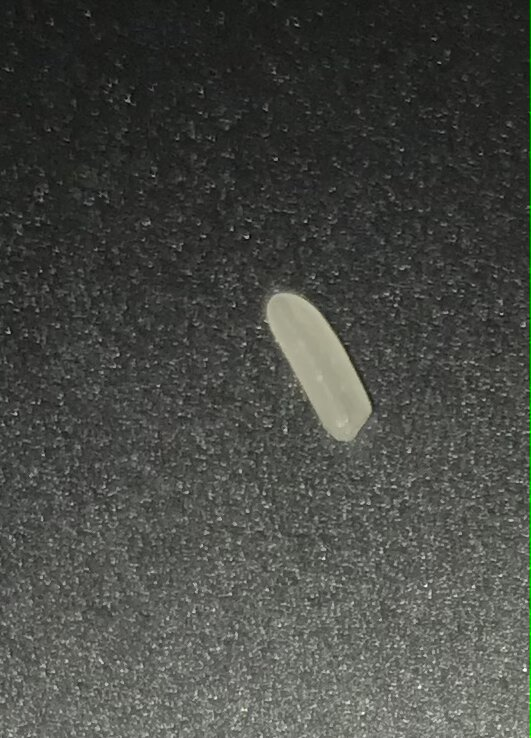Gao Long Lai: (259, 289, 381, 442)
